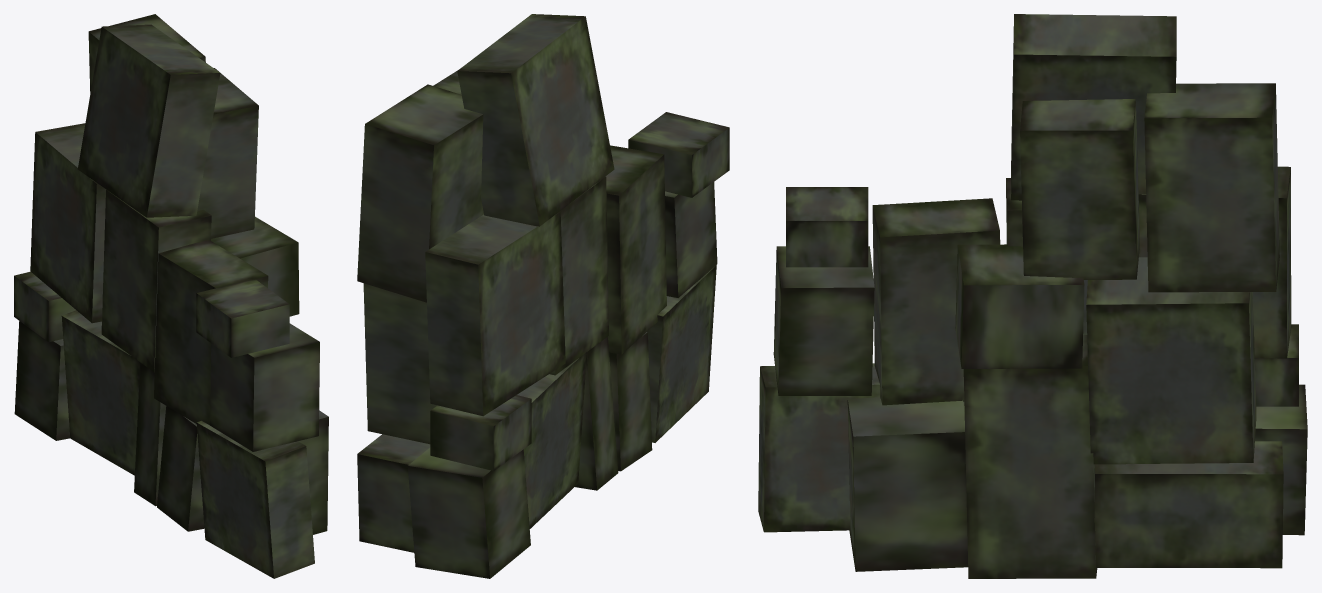
Rendered from ruin-wall_broken_02.fbx.
The picture shows the model from 3 angles, left to right: view 1: azimuth 30°, elevation 25°; view 2: azimuth 150°, elevation 25°; view 3: azimuth 270°, elevation 25°; orthographic projection. The views are drawn at different scales.
Parts seen in each view (by area): view 1: wall_broken_02; view 2: wall_broken_02; view 3: wall_broken_02.
Boxes of the visible parts, bbox=[...] form: wall_broken_02: bbox=[14, 14, 328, 578]; wall_broken_02: bbox=[357, 14, 729, 578]; wall_broken_02: bbox=[758, 14, 1307, 578].
Size of the model in its own units: 160 by 466 by 452.
